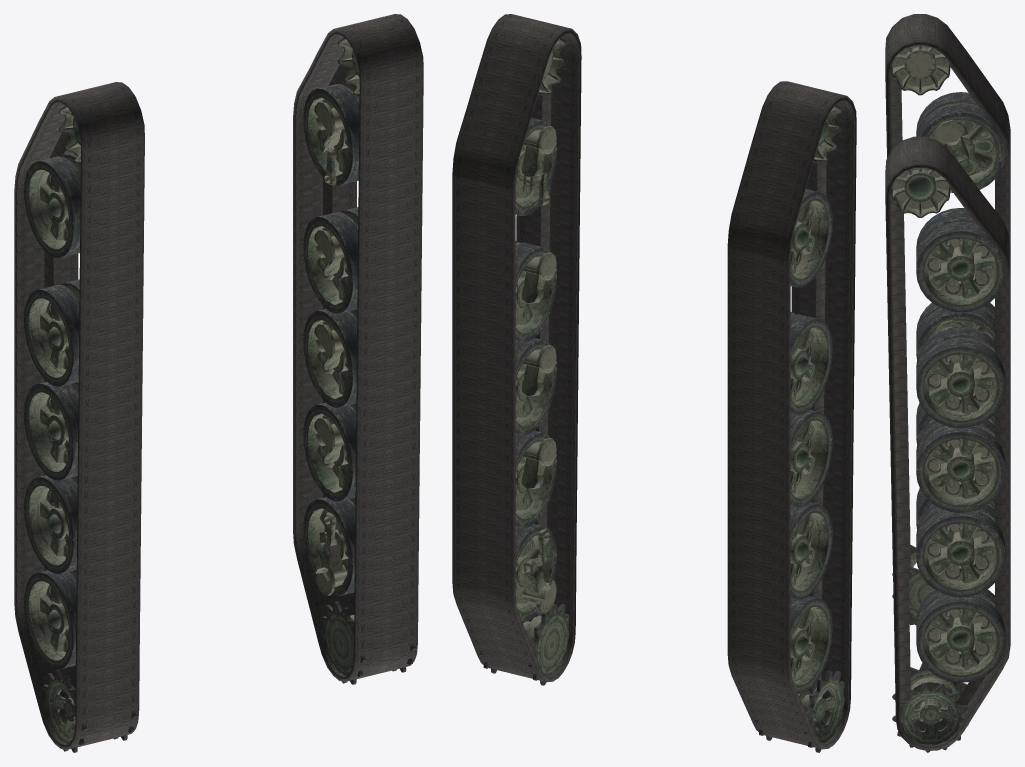
The model's file is Chassis.glb.
3 views of the same model, side by side, from view 1: azimuth 30°, elevation 25°; view 2: azimuth 150°, elevation 25°; view 3: azimuth 270°, elevation 25° (orthographic). The views are drawn at different scales.
Parts seen in each view (by area): view 1: set_0_group_0, set_1_group_0, set_2_group_0, set_3_group_0; view 2: set_0_group_0, set_1_group_0, set_3_group_0, set_2_group_0; view 3: set_3_group_0, set_1_group_0, set_2_group_0, set_0_group_0.
Part boxes in pixels (bbox=[...]): set_0_group_0: bbox=[14, 82, 144, 749]; set_1_group_0: bbox=[293, 14, 423, 681]; set_2_group_0: bbox=[24, 105, 136, 752]; set_3_group_0: bbox=[303, 37, 415, 684]; set_0_group_0: bbox=[727, 81, 856, 749]; set_1_group_0: bbox=[452, 14, 581, 682]; set_3_group_0: bbox=[479, 38, 568, 685]; set_2_group_0: bbox=[754, 105, 844, 752]; set_3_group_0: bbox=[890, 168, 1005, 752]; set_1_group_0: bbox=[885, 136, 1010, 750]; set_2_group_0: bbox=[890, 45, 1005, 625]; set_0_group_0: bbox=[885, 14, 1010, 624].
Bounding box in the file's own units: 3.2 × 5.9 × 1.13.
Materials: 4 (4 with a texture image).
